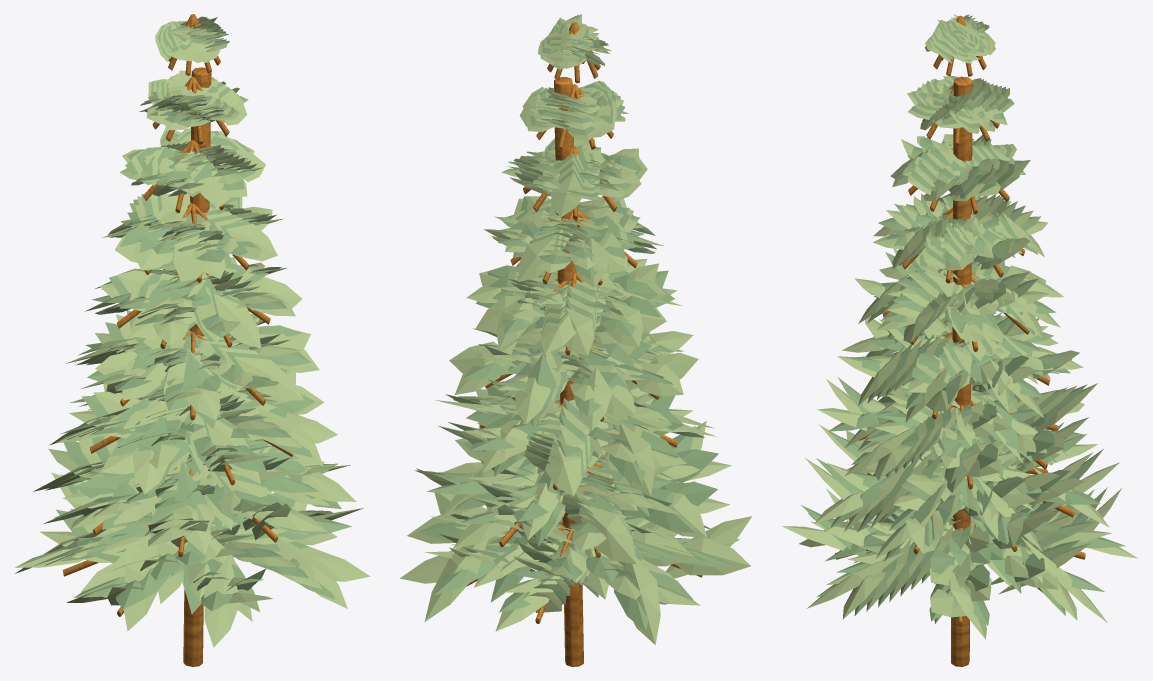
File: spruce-tree.glb
3 views of the same model, side by side, from view 1: azimuth 30°, elevation 25°; view 2: azimuth 150°, elevation 25°; view 3: azimuth 270°, elevation 25° (orthographic).
Parts seen in each view (by area): view 1: spruce-tree; view 2: spruce-tree; view 3: spruce-tree.
Part boxes in pixels (x1,y1,x2,y2): spruce-tree: [15, 14, 370, 666]; spruce-tree: [400, 14, 752, 666]; spruce-tree: [782, 14, 1137, 666].
Size of the model in its own units: 1.8 by 3.6 by 1.8.
3 materials, 1 textured.
